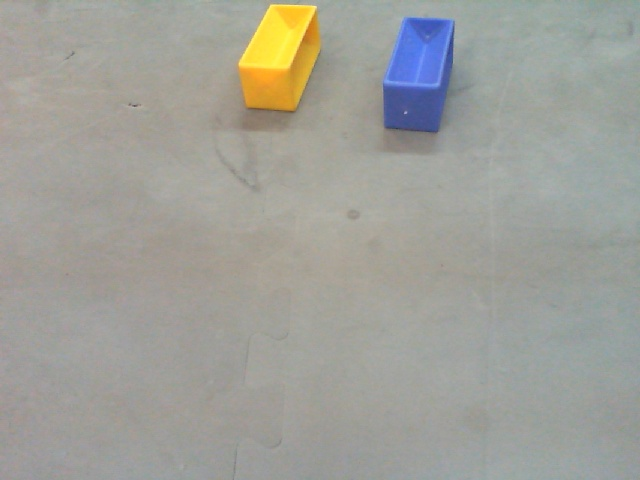BlueSample: (382, 15, 456, 137)
YellowSample: (236, 5, 323, 115)
